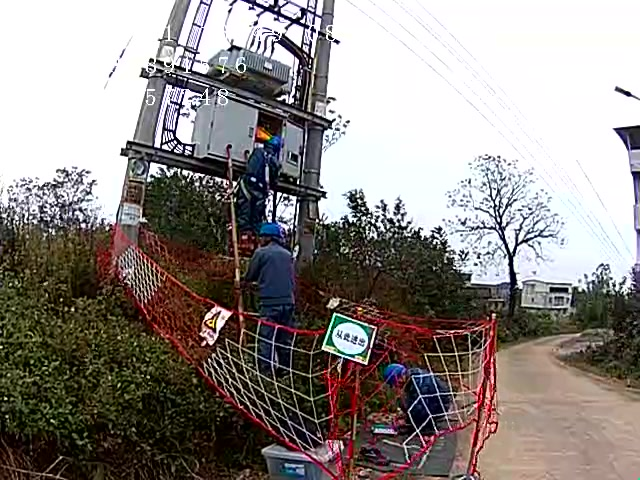halt: (387, 366, 412, 393), (262, 226, 287, 245)
